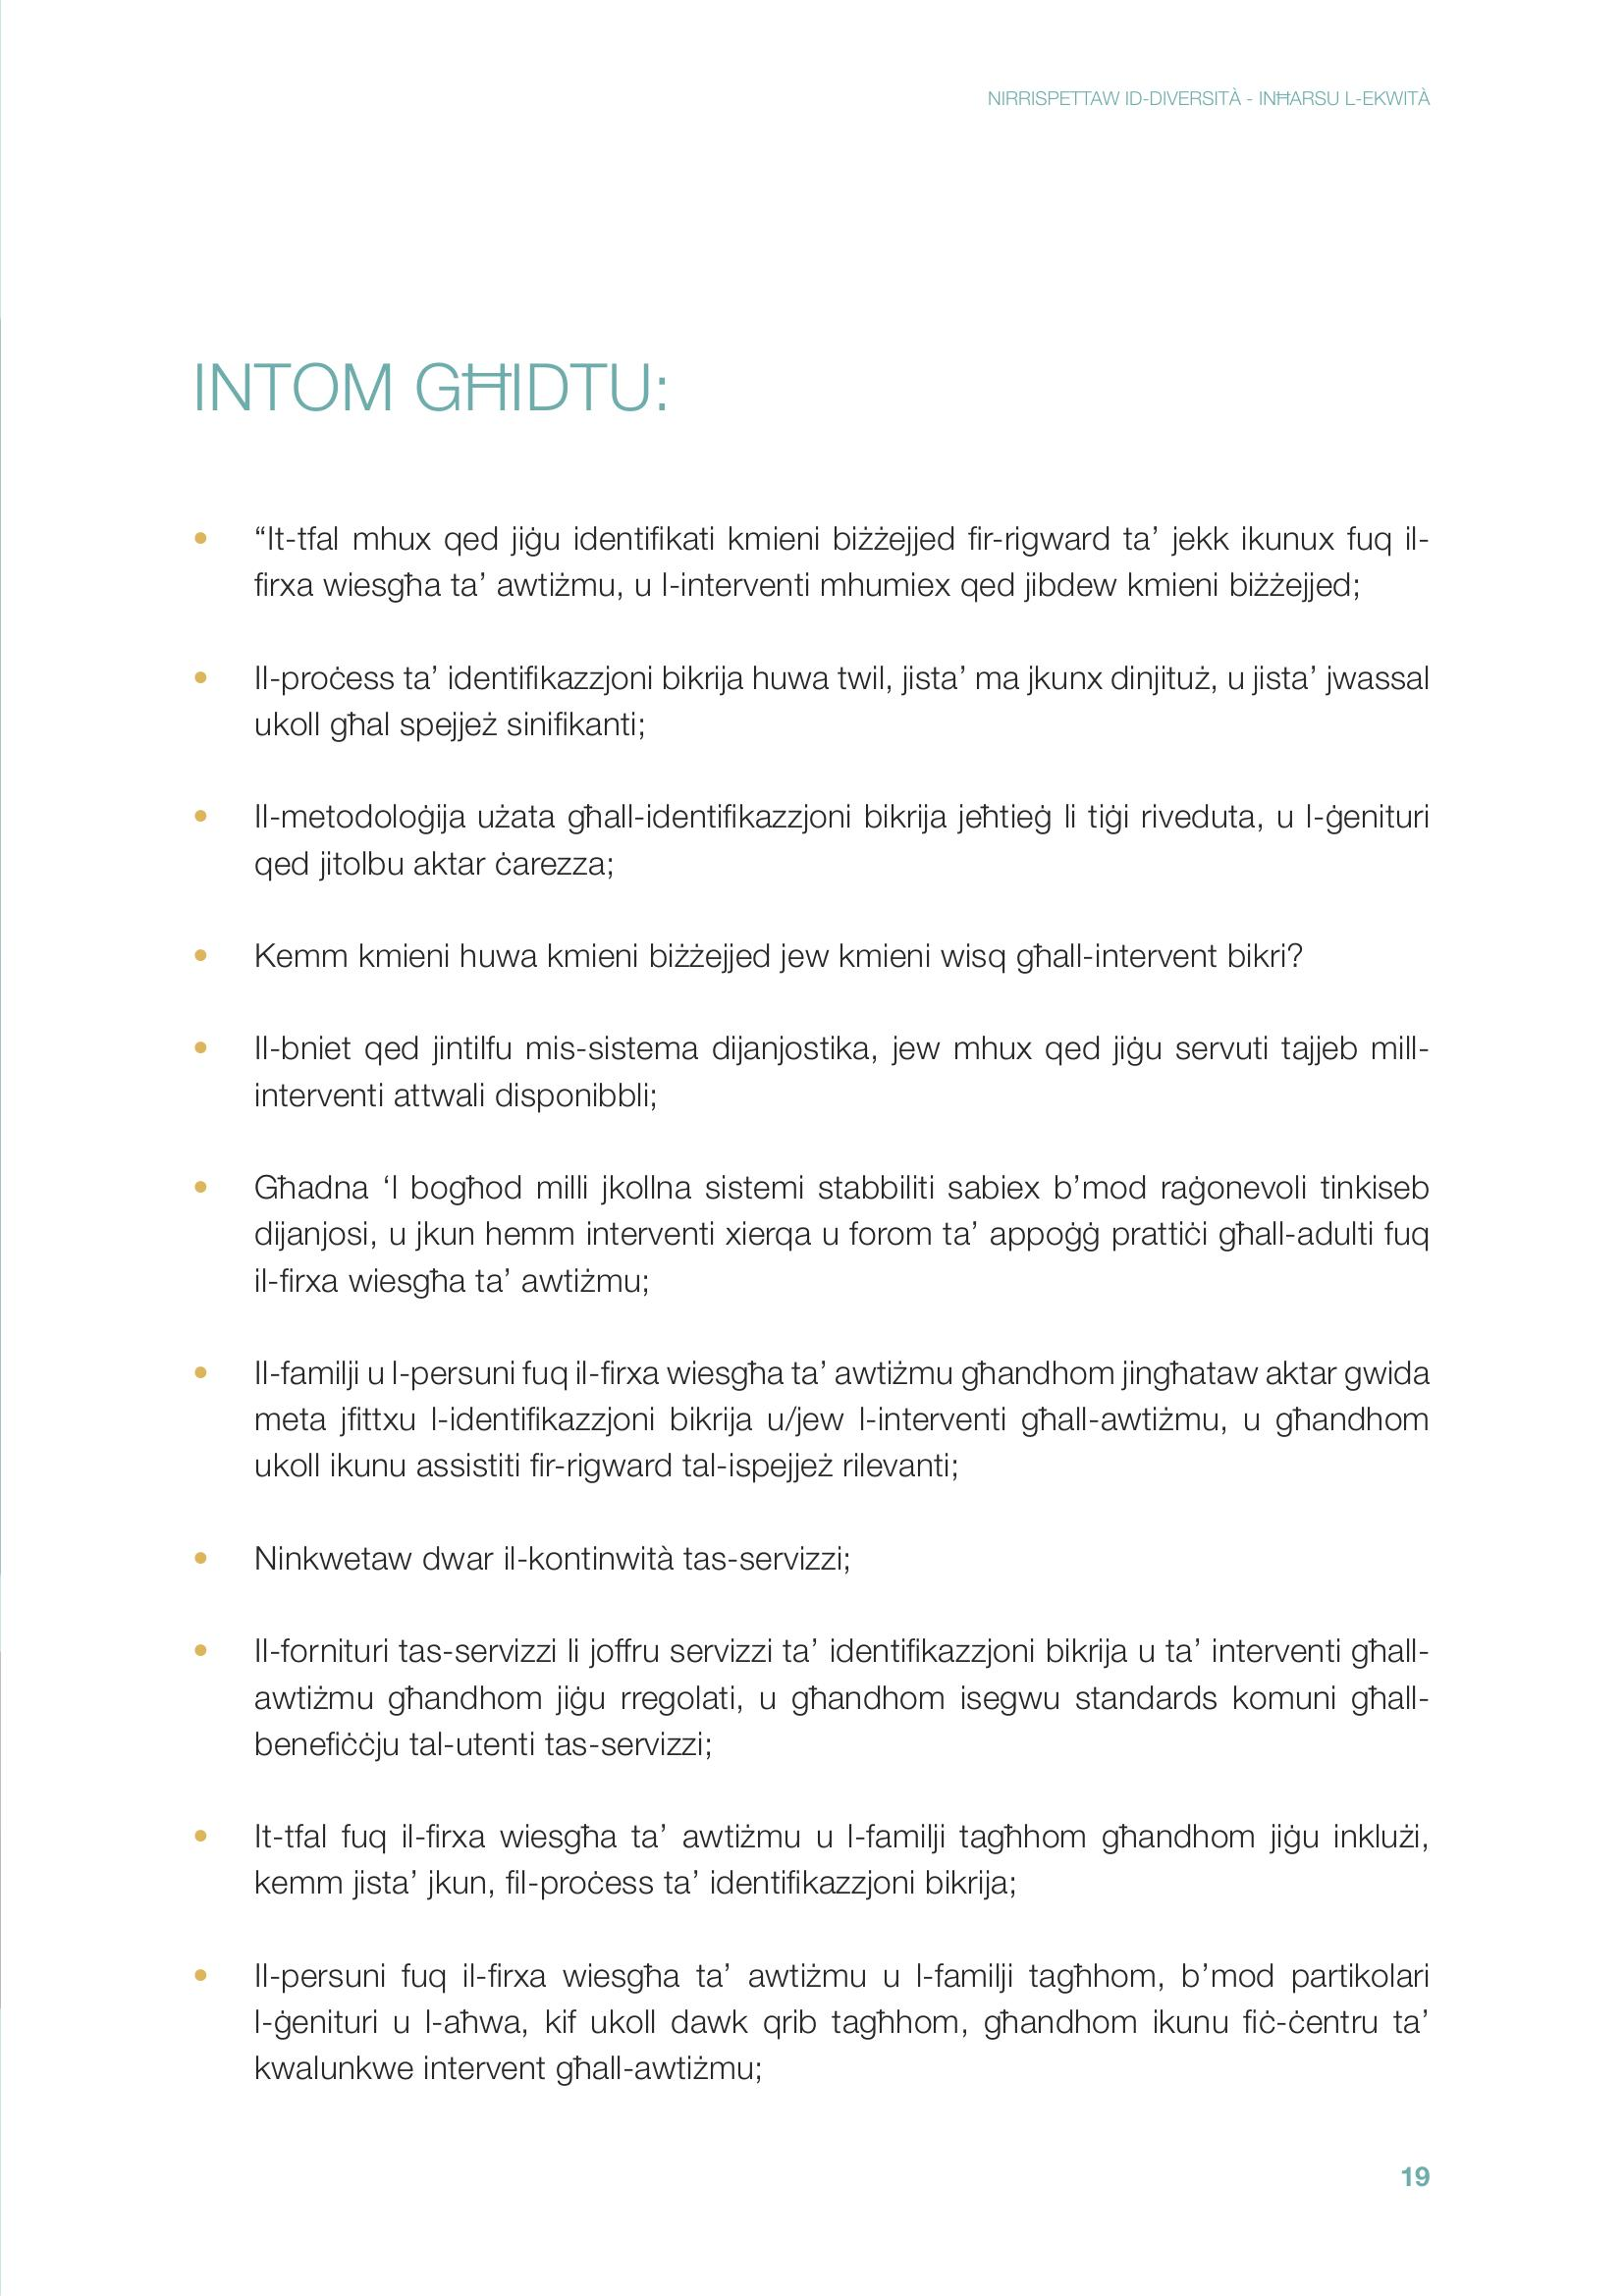text: (155, 323, 1471, 2131)
